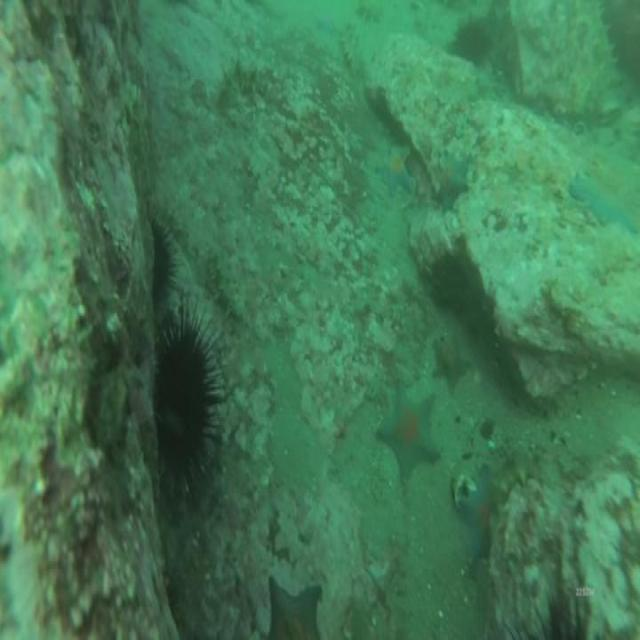echinus: (159, 318, 215, 471), (153, 210, 177, 299), (225, 62, 268, 96), (458, 18, 488, 62)
holothurian: (592, 3, 628, 92), (208, 243, 247, 321), (340, 25, 362, 73)
starfish: (378, 381, 436, 468), (570, 177, 636, 229), (265, 580, 323, 638), (462, 477, 492, 563), (435, 150, 470, 202), (379, 146, 414, 194), (434, 335, 466, 381)
